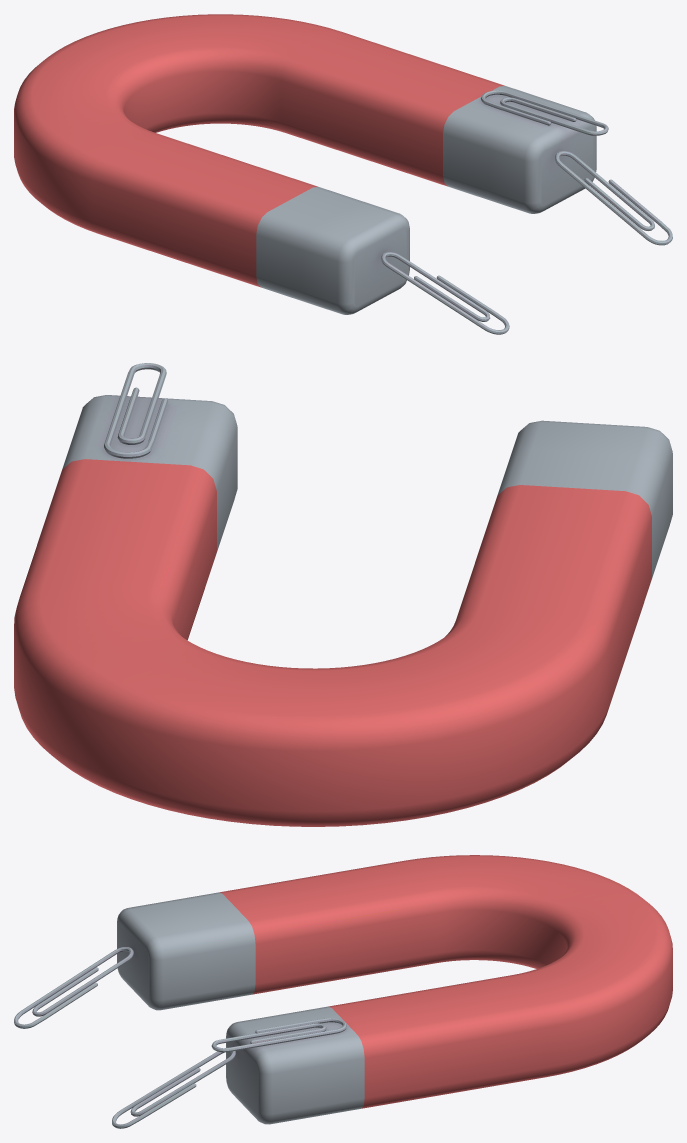
File: horseshoe-magnet.glb
3 views of the same model, one above another, from view 1: azimuth 30°, elevation 25°; view 2: azimuth 150°, elevation 25°; view 3: azimuth 270°, elevation 25° (orthographic). The views are drawn at different scales.
Visible parts, largest first — view 1: horseshoe-magnet_body; view 2: horseshoe-magnet_body; view 3: horseshoe-magnet_body.
Part boxes in pixels (<box>): horseshoe-magnet_body: <box>14,14,672,334</box>; horseshoe-magnet_body: <box>14,363,672,826</box>; horseshoe-magnet_body: <box>14,855,672,1128</box>.
Bounding box in the file's own units: 0.1128 × 0.019 × 0.1493.
1 material, 1 textured.
